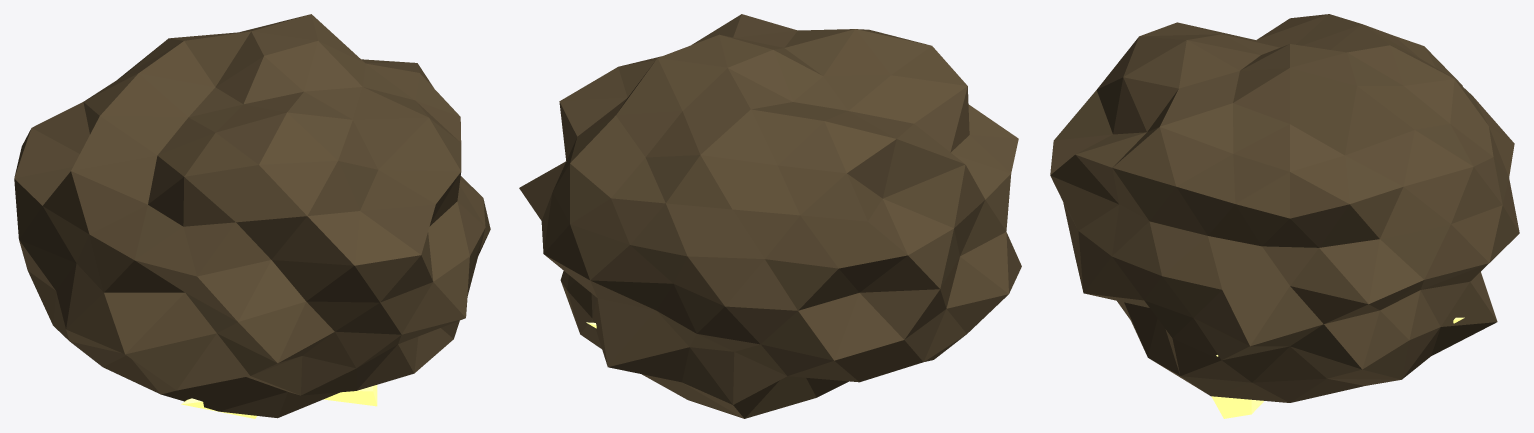
File: asteroid_ore.glb
The picture shows the model from 3 angles, left to right: view 1: azimuth 30°, elevation 25°; view 2: azimuth 150°, elevation 25°; view 3: azimuth 270°, elevation 25°; orthographic projection. The views are drawn at different scales.
Parts seen in each view (by area): view 1: asteroid_ore; view 2: asteroid_ore; view 3: asteroid_ore.
Boxes of the visible parts, x1,y1,x2,y2 form: asteroid_ore: [14, 14, 490, 418]; asteroid_ore: [519, 14, 1021, 418]; asteroid_ore: [1050, 14, 1519, 418].
Size of the model in its own units: 2.01 by 1.58 by 1.93.
